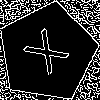X: (22, 27, 78, 83)
